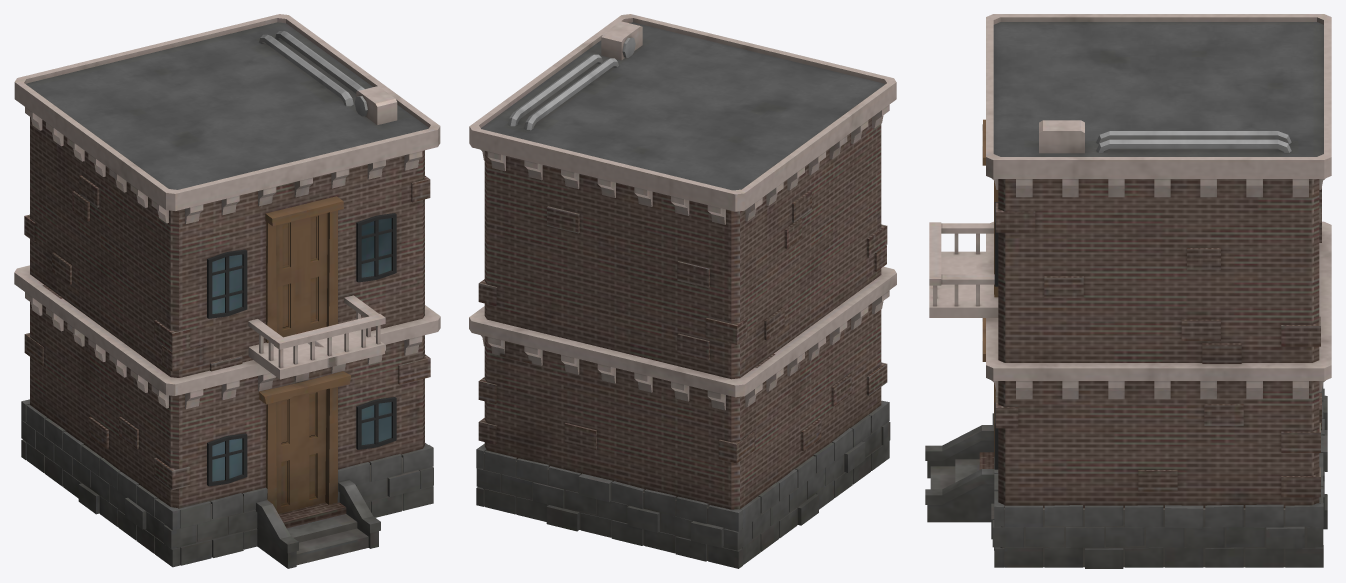
Rendered from 2Story_Balcony.glb.
The picture shows the model from 3 angles, left to right: view 1: azimuth 30°, elevation 25°; view 2: azimuth 150°, elevation 25°; view 3: azimuth 270°, elevation 25°; orthographic projection. The views are drawn at different scales.
Visible parts, largest first — view 1: 2Story_Balcony_medium; view 2: 2Story_Balcony_medium; view 3: 2Story_Balcony_medium.
Part boxes in pixels (x1=…): 2Story_Balcony_medium: x1=14, y1=14, x2=440, y2=568; 2Story_Balcony_medium: x1=469, y1=14, x2=896, y2=568; 2Story_Balcony_medium: x1=925, y1=14, x2=1331, y2=568.
Size of the model in its own units: 2.16 by 2.94 by 2.53.
2 materials, 2 textured.
